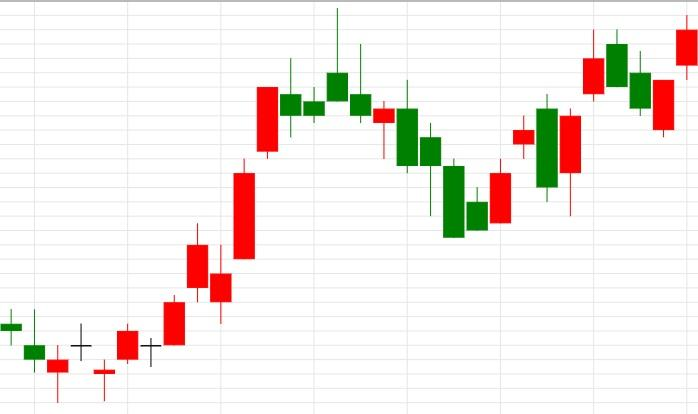shooting_star_fall: (210, 8, 349, 324)
